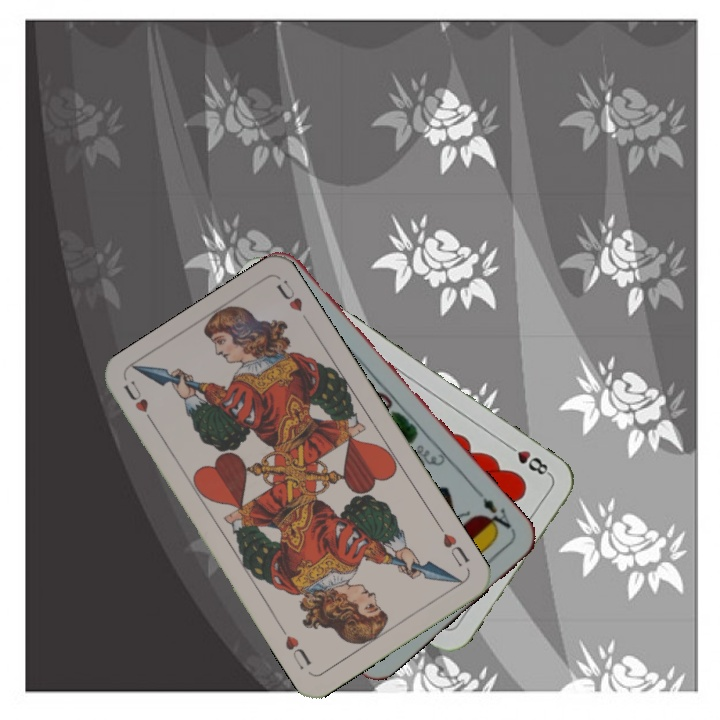EA: (477, 494, 517, 536)
H8: (501, 439, 553, 479)
HU: (119, 376, 159, 430), (434, 520, 473, 570)
